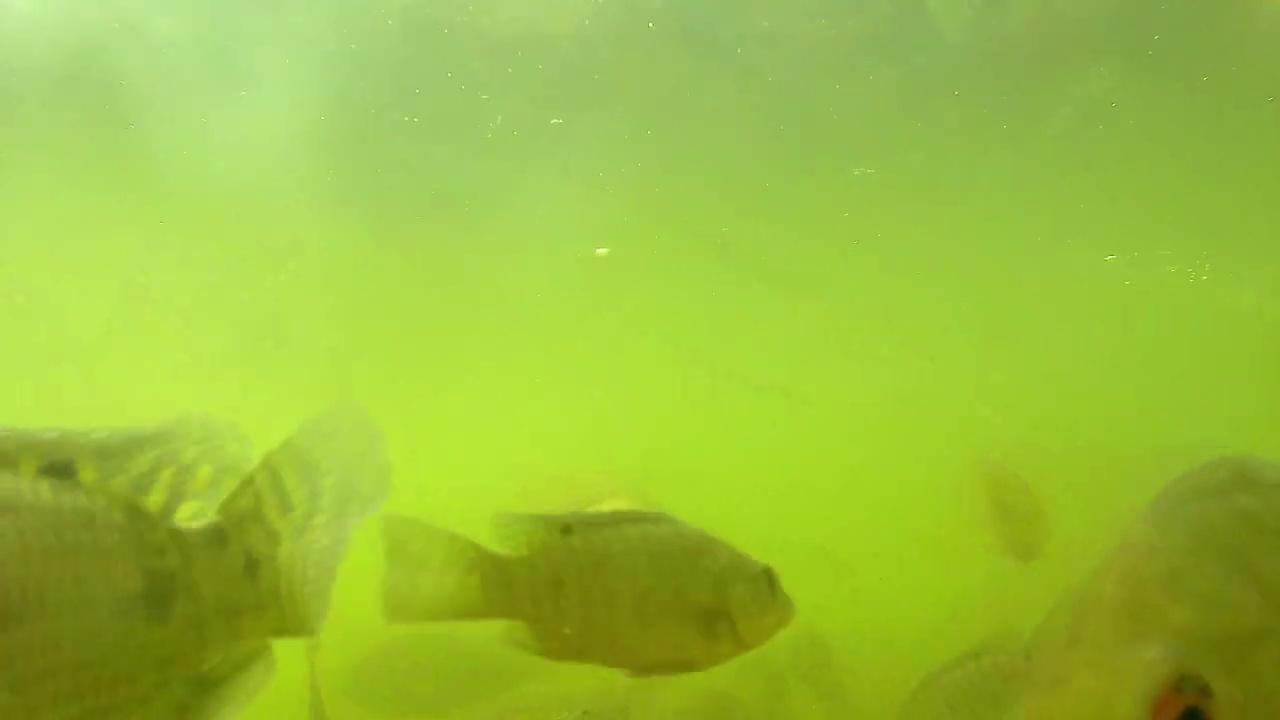Tilapia: (387, 498, 796, 674)
